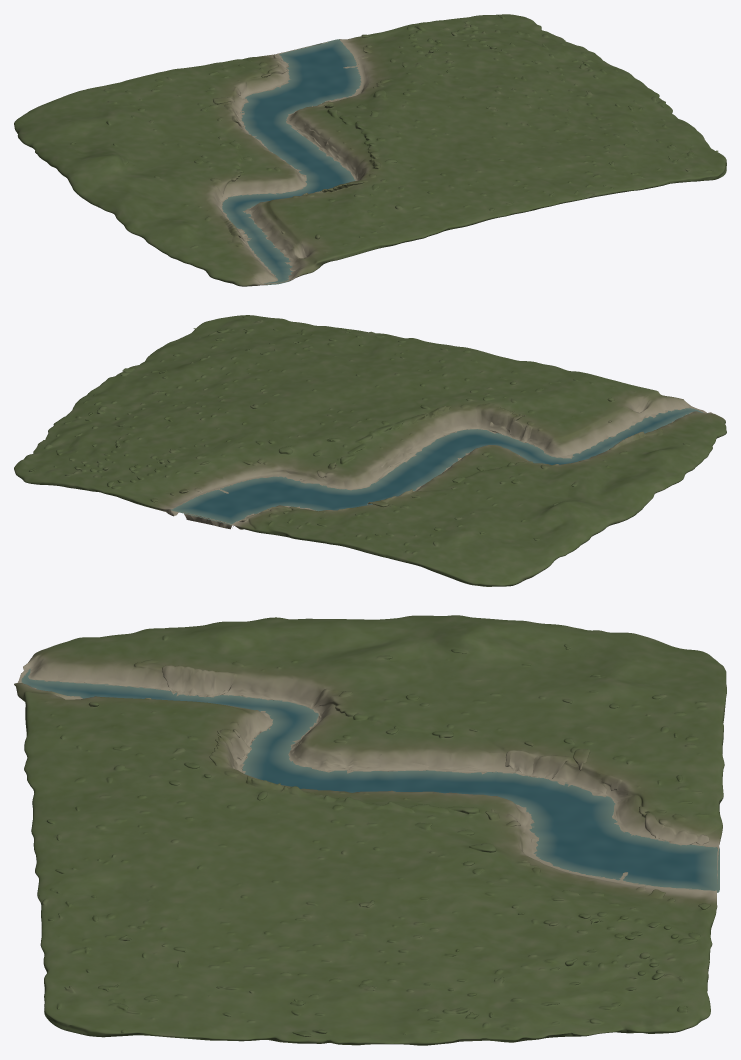
Rendered from terrain-v4.glb.
3 views of the same model, one above another, from view 1: azimuth 30°, elevation 25°; view 2: azimuth 150°, elevation 25°; view 3: azimuth 270°, elevation 25° (orthographic). The views are drawn at different scales.
Parts seen in each view (by area): view 1: tripo_node_ef301631-aaaf-4dde-955b-eebf993bdcc8, ContinuousRiverSurface; view 2: tripo_node_ef301631-aaaf-4dde-955b-eebf993bdcc8, ContinuousRiverSurface; view 3: tripo_node_ef301631-aaaf-4dde-955b-eebf993bdcc8, ContinuousRiverSurface.
Boxes of the visible parts, bbox=[...] form: tripo_node_ef301631-aaaf-4dde-955b-eebf993bdcc8: bbox=[14, 14, 726, 286]; ContinuousRiverSurface: bbox=[222, 39, 361, 285]; tripo_node_ef301631-aaaf-4dde-955b-eebf993bdcc8: bbox=[14, 315, 726, 586]; ContinuousRiverSurface: bbox=[170, 407, 702, 525]; tripo_node_ef301631-aaaf-4dde-955b-eebf993bdcc8: bbox=[14, 615, 726, 1045]; ContinuousRiverSurface: bbox=[21, 669, 719, 892].
Bounding box in the file's own units: 0.938 × 0.055 × 0.704.
Materials: 2 (2 with a texture image).
